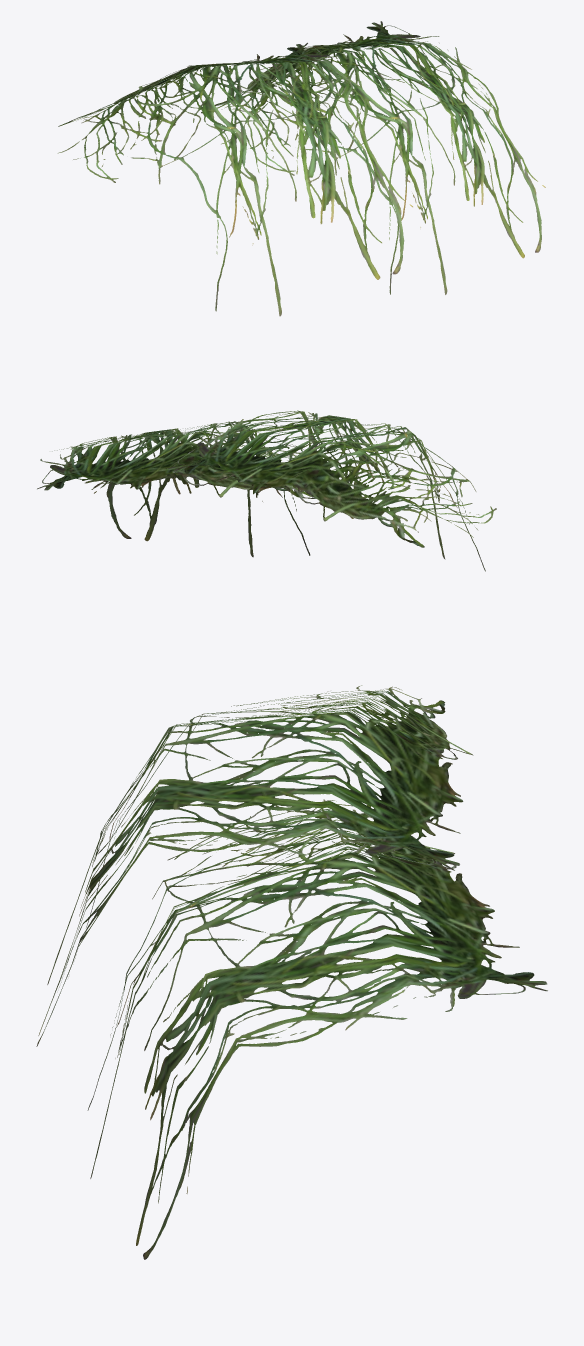
The model's file is plant08b.fbx.
The picture shows the model from 3 angles, top to bottom: view 1: azimuth 30°, elevation 25°; view 2: azimuth 150°, elevation 25°; view 3: azimuth 270°, elevation 25°; orthographic projection. The views are drawn at different scales.
Visible parts, largest first — view 1: plant08b; view 2: plant08b; view 3: plant08b.
Part boxes in pixels (bbox=[...]): plant08b: bbox=[57, 21, 545, 316]; plant08b: bbox=[37, 410, 496, 571]; plant08b: bbox=[36, 685, 547, 1259].
Bounding box in the file's own units: 0.8956 × 0.4415 × 0.5726.
